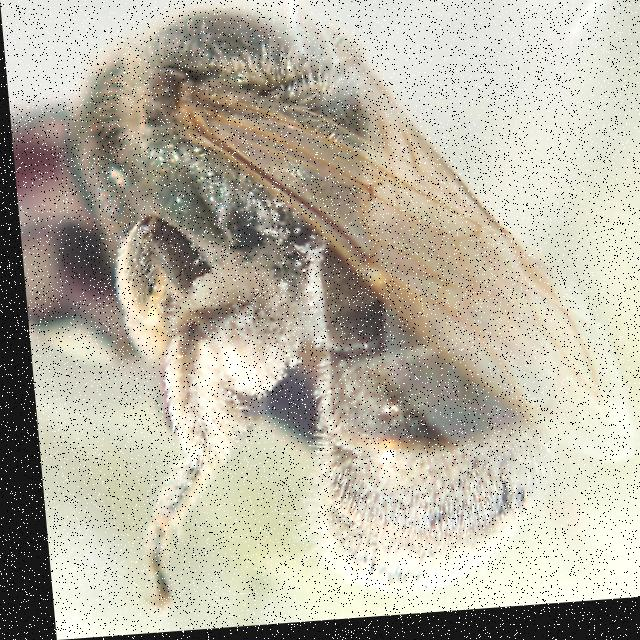Lasioglossum: (43, 0, 611, 624)
